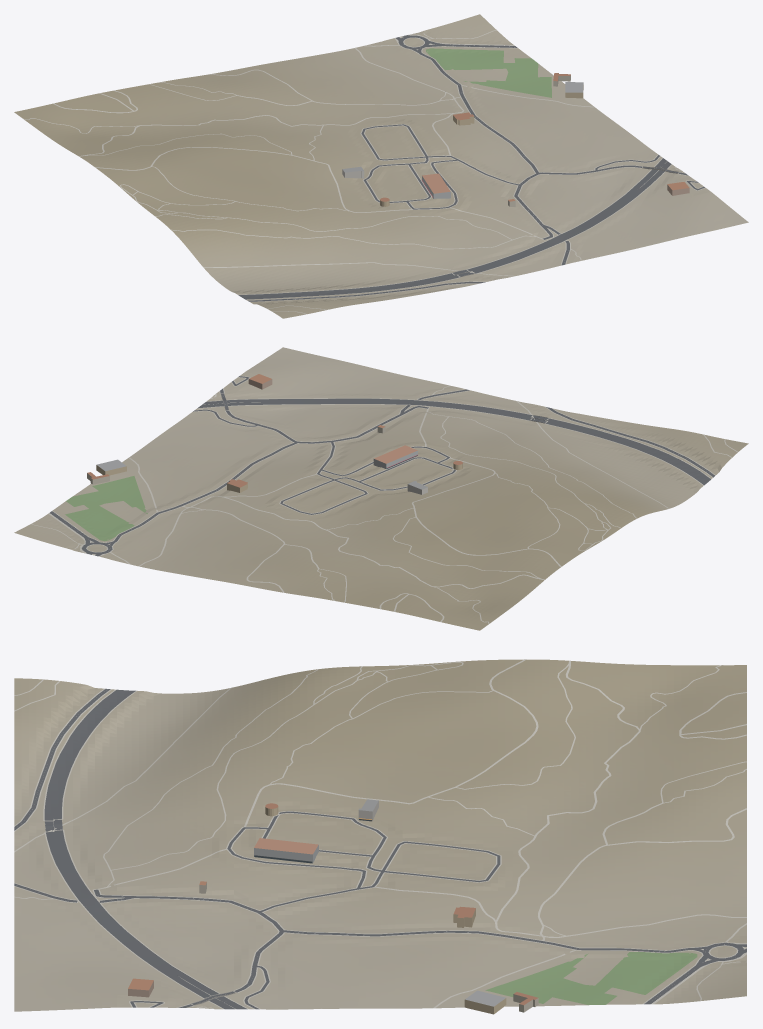
3 renders of one model, top to bottom at view 1: azimuth 30°, elevation 25°; view 2: azimuth 150°, elevation 25°; view 3: azimuth 270°, elevation 25°, orthographic. The views are drawn at different scales.
Visible parts, largest first — view 1: Ground, Sidewalk, Road, Park, Roofs, Walls; view 2: Ground, Sidewalk, Road, Park, Walls, Roofs; view 3: Ground, Sidewalk, Road, Park, Walls, Roofs.
Boxes of the visible parts, <box> form: Ground: <box>14,14,748,318</box>; Sidewalk: <box>23,30,705,314</box>; Road: <box>238,35,704,301</box>; Park: <box>426,48,551,97</box>; Roofs: <box>342,73,689,201</box>; Walls: <box>342,73,689,206</box>; Ground: <box>14,347,748,630</box>; Sidewalk: <box>31,375,737,623</box>; Road: <box>50,376,714,556</box>; Park: <box>65,476,147,541</box>; Walls: <box>87,379,462,494</box>; Roofs: <box>87,374,462,489</box>; Ground: <box>14,659,746,1011</box>; Sidewalk: <box>14,659,746,1009</box>; Road: <box>14,688,746,1009</box>; Park: <box>485,952,697,1005</box>; Walls: <box>128,801,538,1014</box>; Roofs: <box>128,799,538,1006</box>.
Bounding box in the file's own units: 1023 × 64.04 × 1003.
